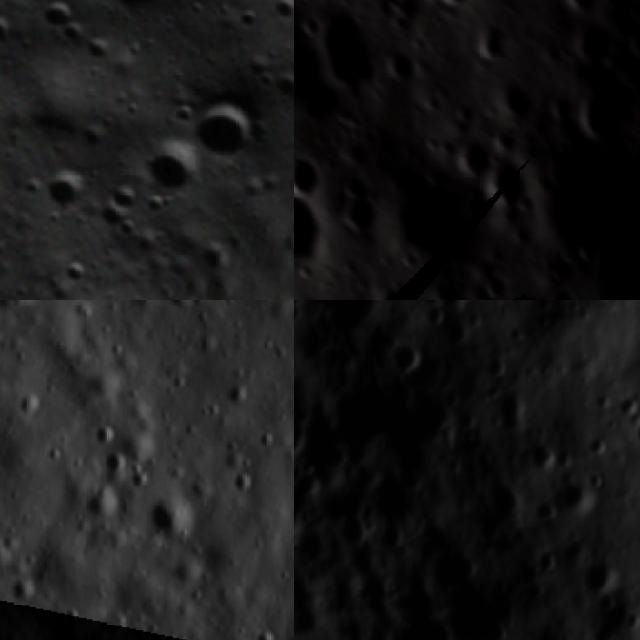crater: (190, 91, 272, 174), (315, 3, 389, 92), (134, 127, 214, 206), (576, 77, 640, 144), (136, 486, 200, 546), (420, 540, 479, 598), (39, 158, 97, 216), (483, 152, 534, 214), (335, 194, 389, 246), (294, 180, 322, 269), (488, 80, 542, 124), (447, 130, 495, 179), (486, 474, 526, 530), (574, 20, 622, 66), (108, 175, 154, 222), (488, 386, 532, 435), (30, 0, 85, 37), (578, 552, 625, 593), (98, 0, 172, 26), (57, 252, 102, 294), (385, 328, 424, 376), (294, 147, 329, 196), (342, 281, 428, 300), (476, 20, 512, 64), (547, 248, 584, 290), (232, 1, 271, 38), (387, 44, 423, 84), (222, 464, 259, 501), (479, 267, 520, 300), (479, 341, 516, 377), (424, 0, 481, 22), (1, 574, 37, 608), (543, 88, 576, 124), (0, 5, 21, 59), (340, 168, 376, 199), (527, 545, 559, 579), (375, 523, 408, 555), (220, 378, 250, 412), (581, 432, 613, 461), (544, 281, 583, 300), (155, 300, 198, 317), (248, 618, 281, 640), (266, 0, 294, 23), (303, 12, 325, 40), (430, 300, 473, 313), (565, 0, 607, 13), (582, 468, 604, 490), (632, 408, 640, 451), (0, 533, 9, 571), (292, 8, 294, 105)
